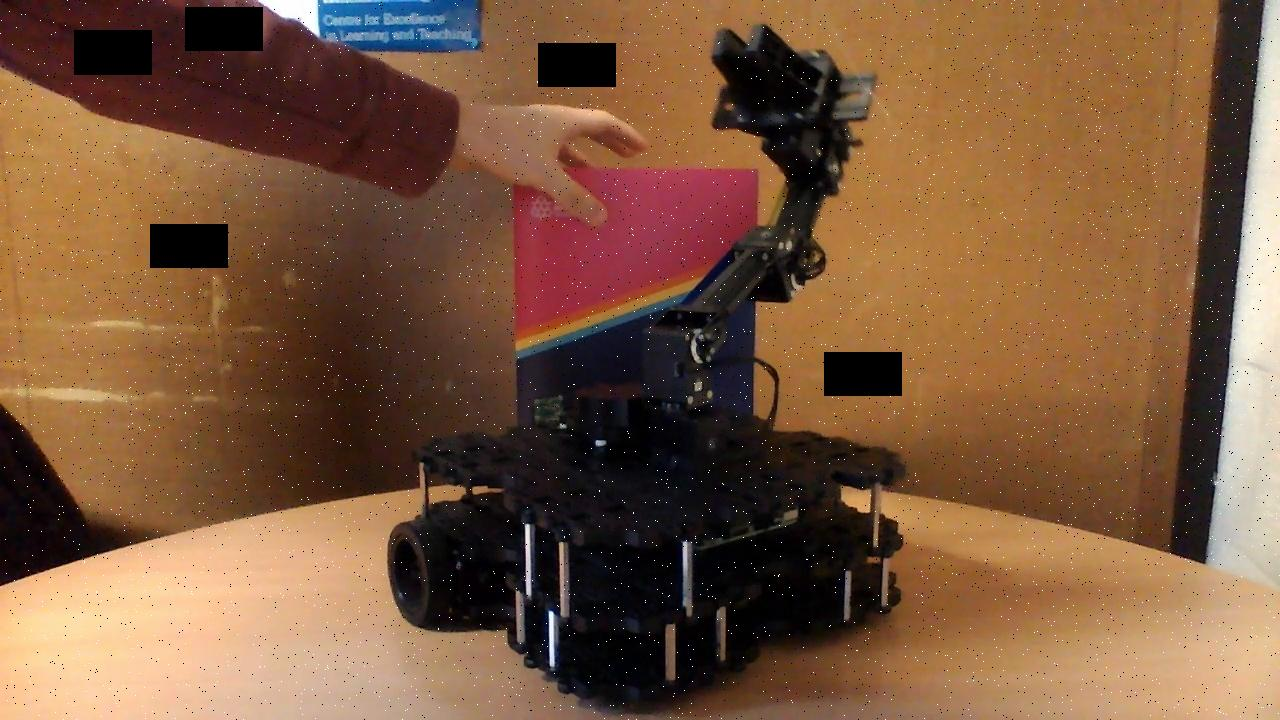Arm: (641, 220, 801, 373)
Hand: (705, 21, 882, 192)
Wrist: (768, 168, 837, 308)
base: (385, 380, 913, 715)
